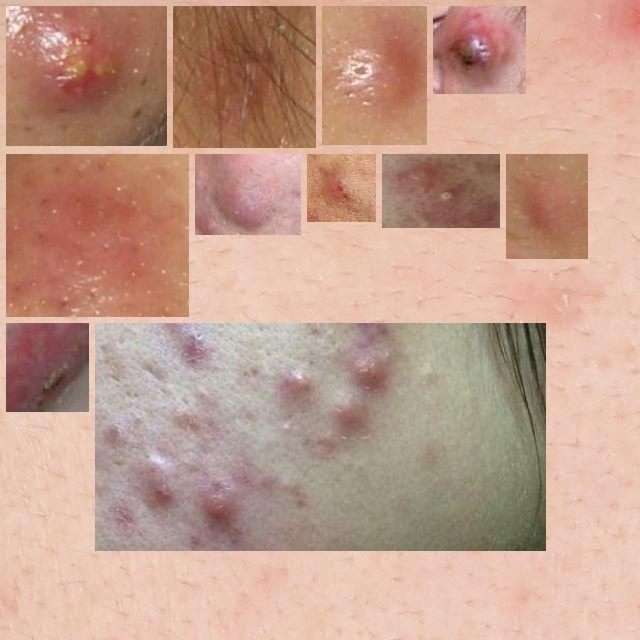nodule: (103, 331, 573, 543), (14, 162, 181, 309), (14, 14, 159, 138), (181, 14, 308, 140), (330, 14, 419, 137), (390, 162, 492, 220), (514, 162, 580, 251), (203, 162, 293, 227), (441, 14, 518, 86), (14, 331, 81, 404), (315, 162, 368, 214)
